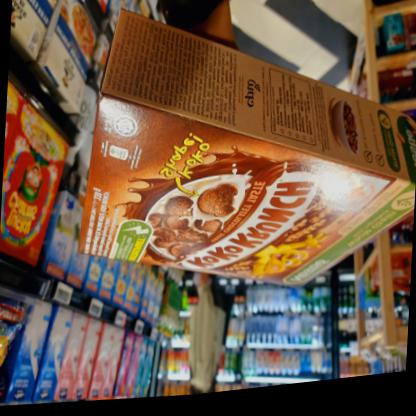i: (60, 0, 415, 327)
